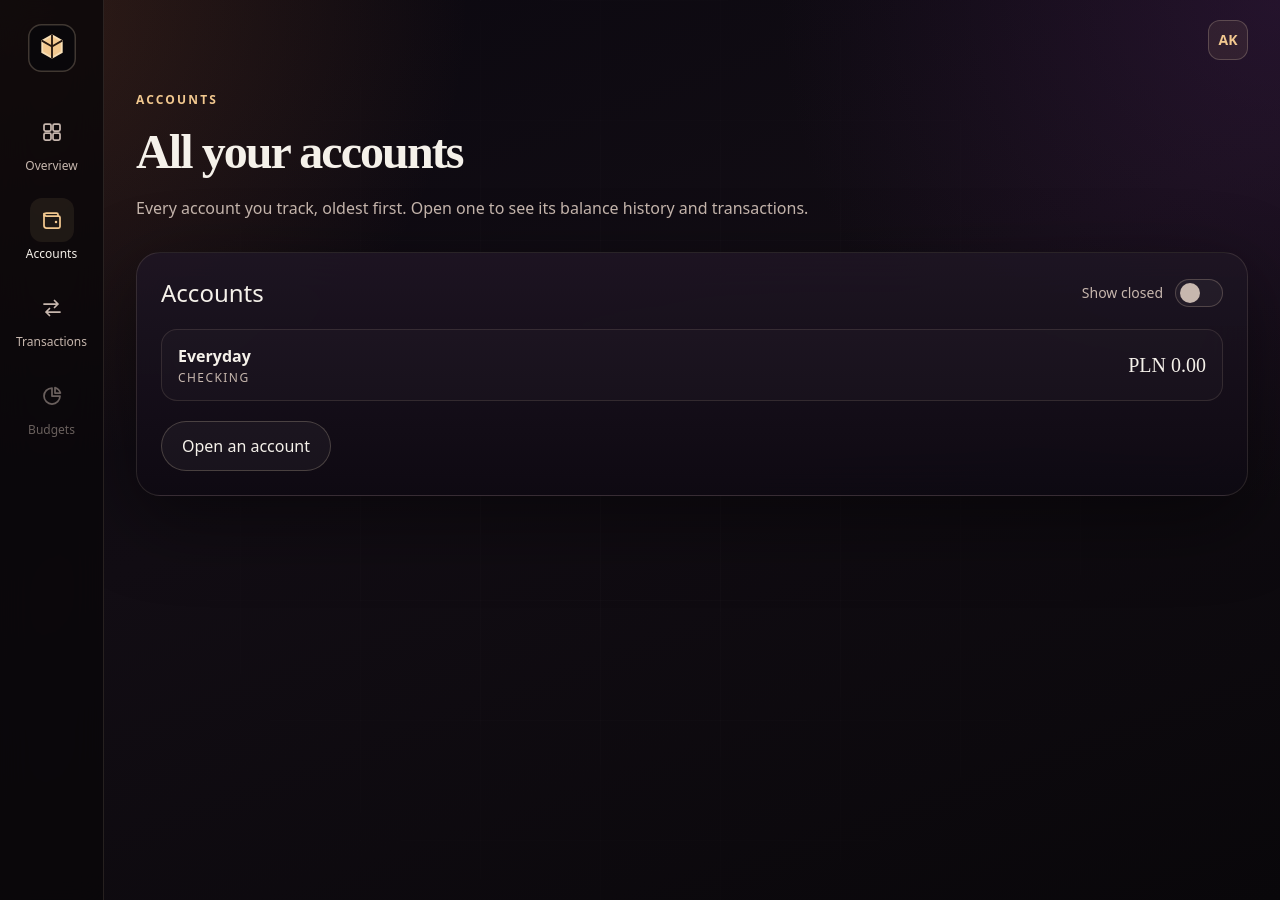
accounts › shows closed accounts on the accounts page on request
Expected: the link "Everyday Checking PLN 0.00" is shown, [161,329,1223,401]
Expected: the link "Old savings" is not shown
Click the switch named "Show closed" at x=1199, y=293, box [1175,279,1223,307]
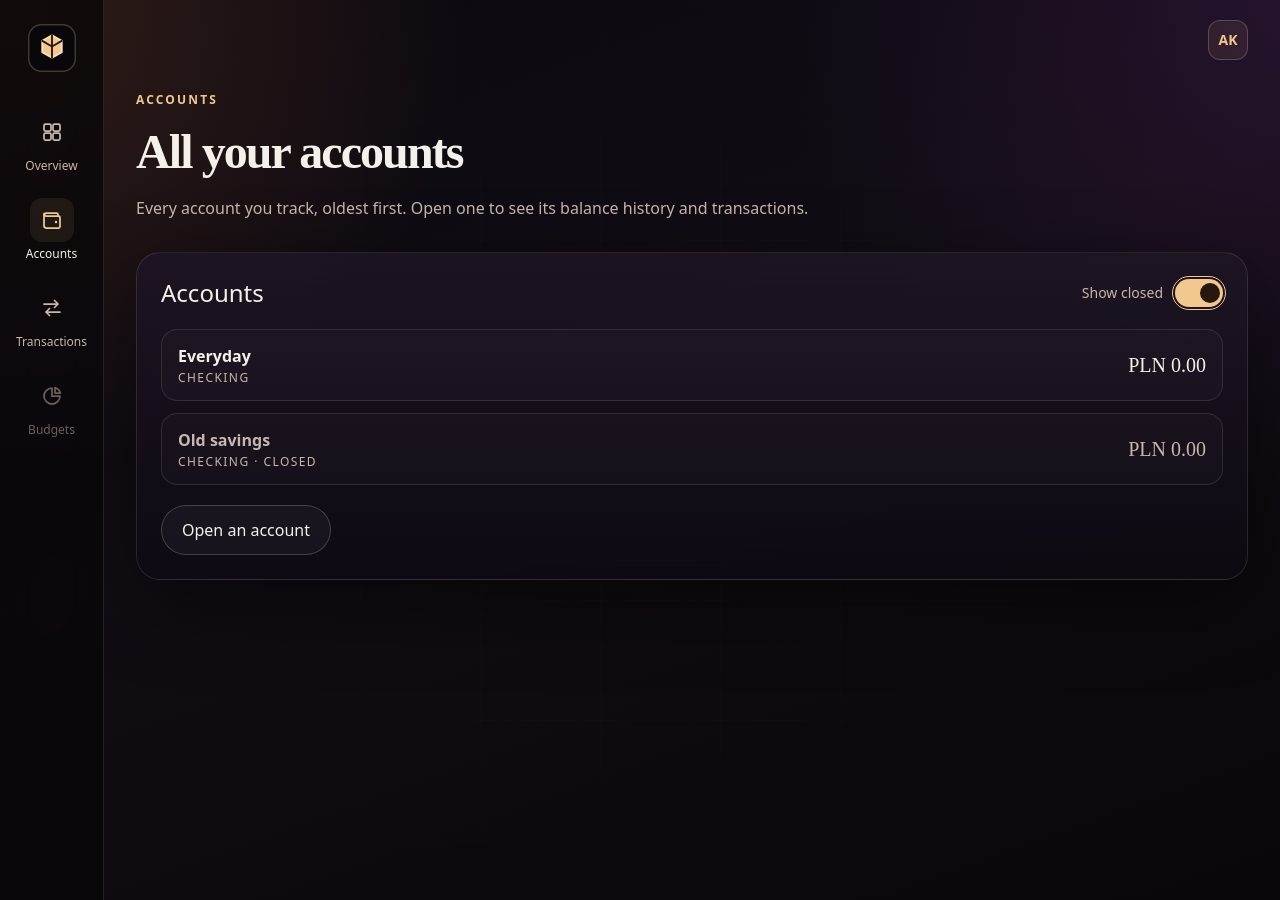
Expected: the link "Old savings Checking · Closed PLN 0.00" is shown, [161,413,1223,485]
